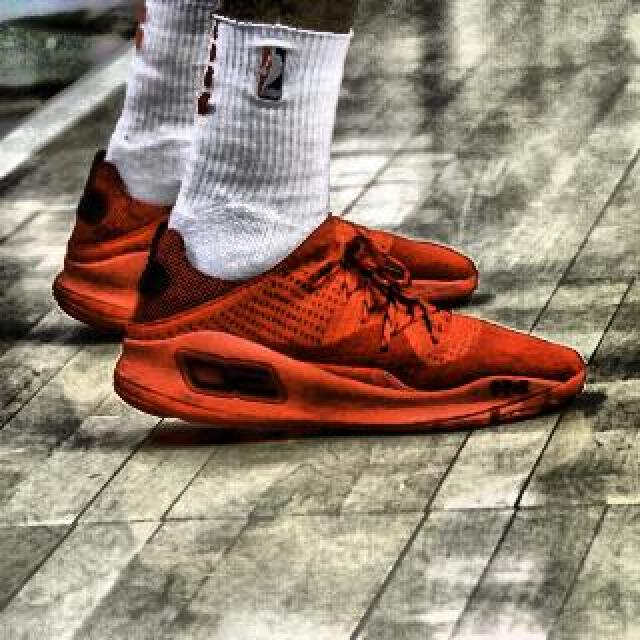shoes: (110, 209, 590, 425), (52, 153, 476, 337)
